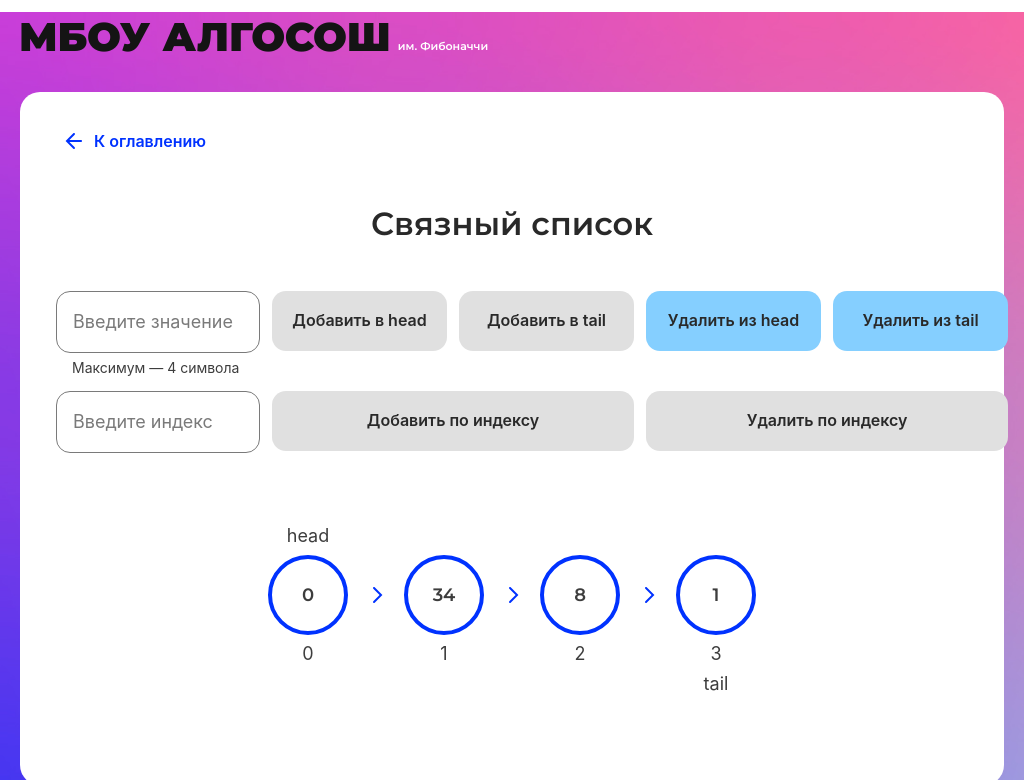
Test: Тестирование страницы Связный список › Корректность удаления элемента по индексу
Step 1. Type "1" into the field with placeholder "Введите индекс" → (158, 422), box [56,391,260,453]
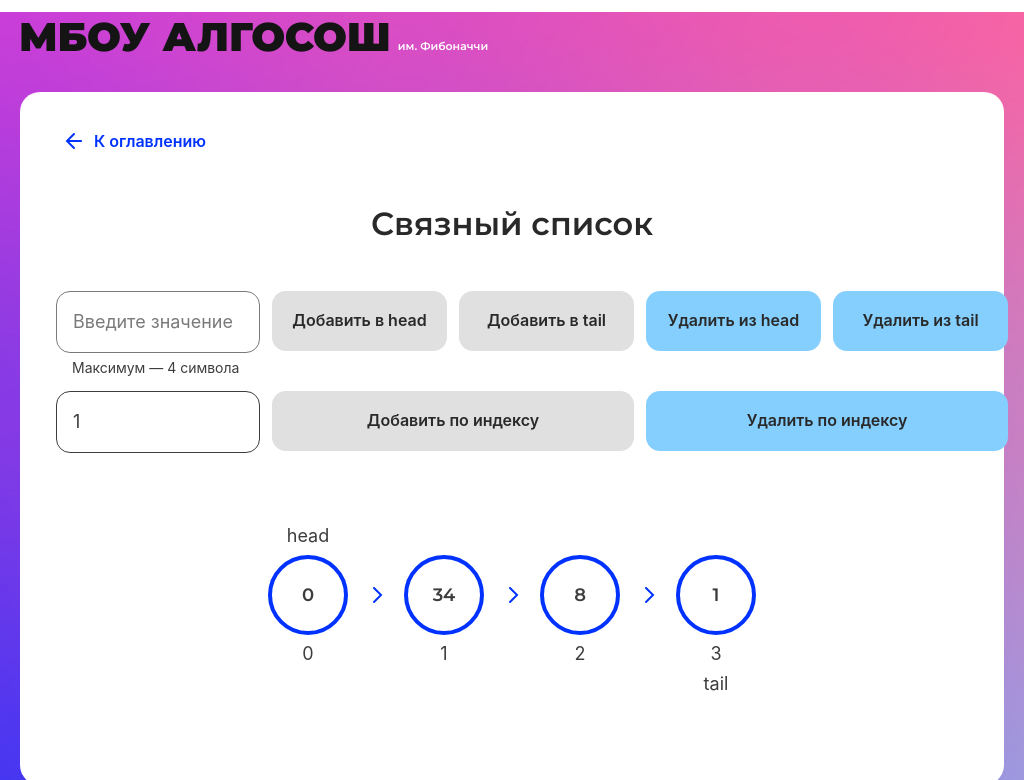
Step 2. Click the button "Удалить по индексу" → (827, 421), box [646,391,1008,451]
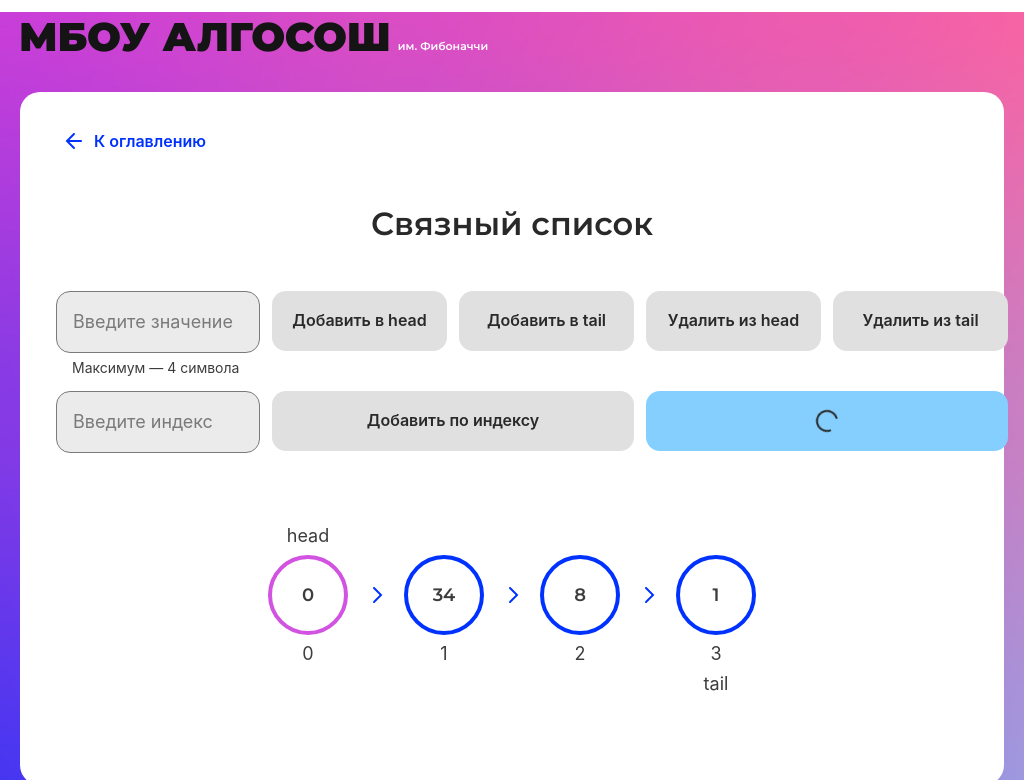
Check: the element showing "0" has style "border-color"="rgb(210, 82, 225)", box [268,555,348,635]
Step 3. Wait "1000"
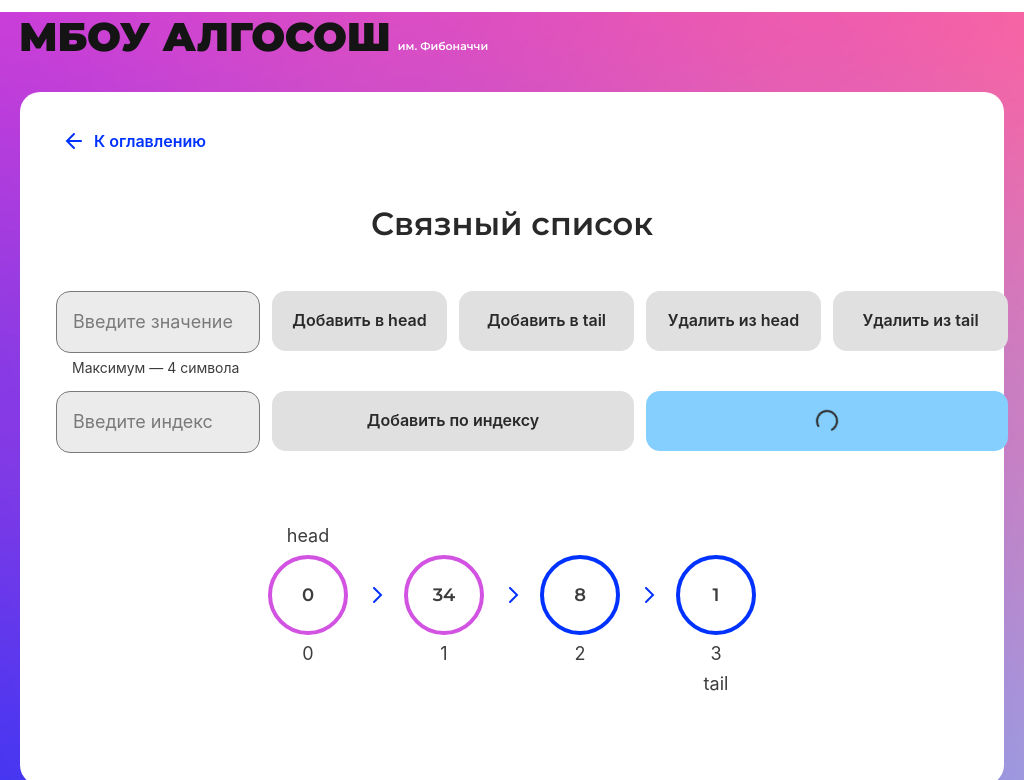
Check: the element showing "0" has style "border-color"="rgb(210, 82, 225)", box [268,555,348,635]
Check: the element showing "34" has style "border-color"="rgb(210, 82, 225)", box [404,555,484,635]
Step 4. Wait "1000"
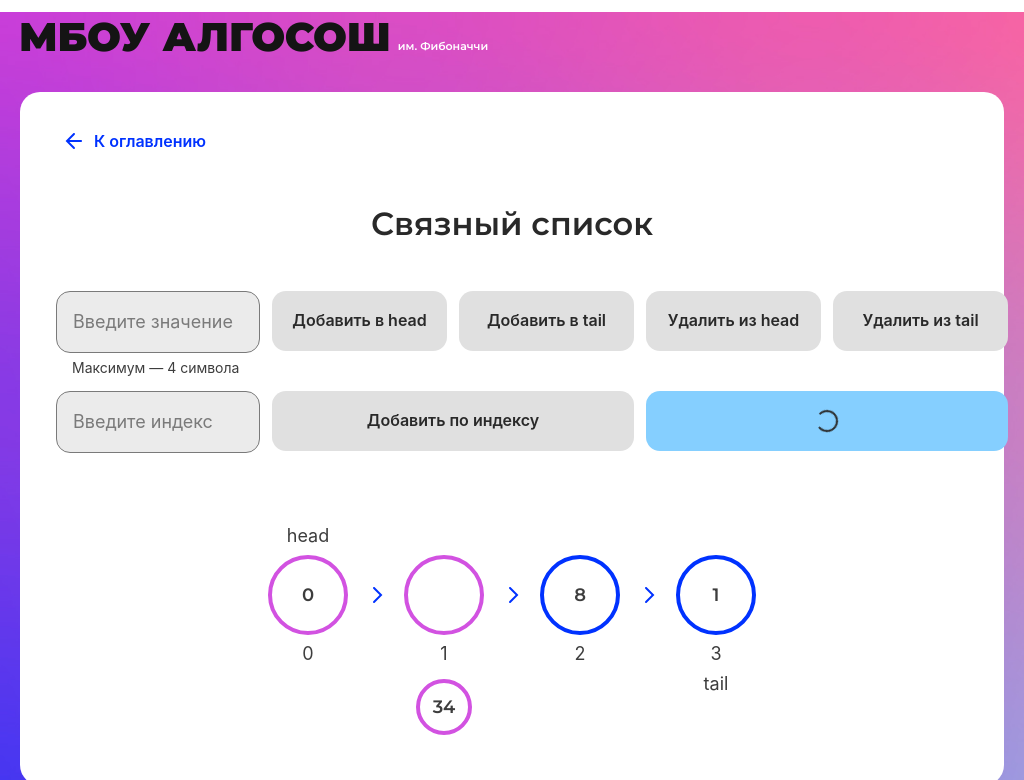
Check: the element showing "34" is shown, box [416,679,472,735]
Step 5. Wait "1000"
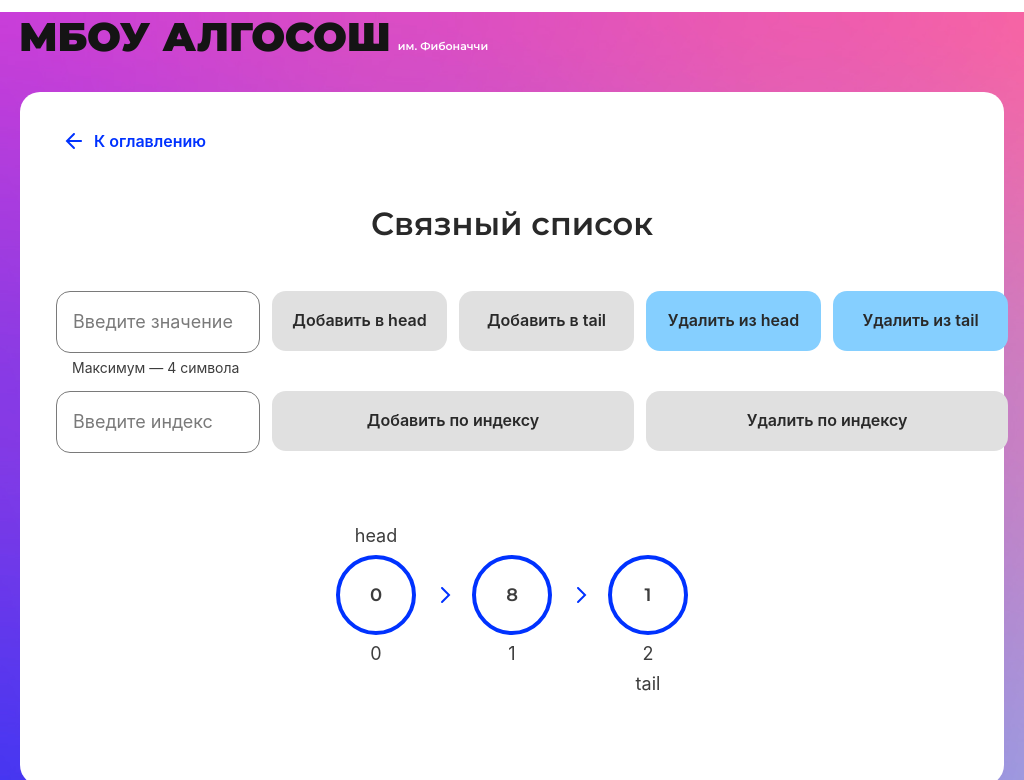
Check: the element showing "0" is shown, box [336,555,416,635]
Check: the element showing "8" is shown, box [472,555,552,635]
Check: the element showing "1" is shown, box [608,555,688,635]
